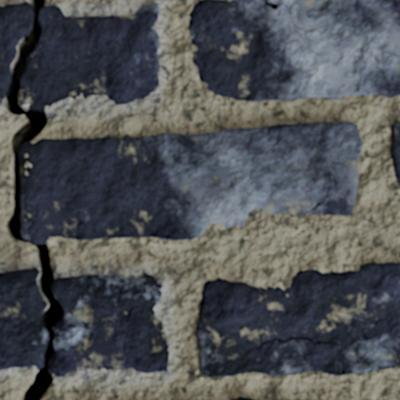brick: (22, 122, 361, 241), (197, 263, 399, 376), (189, 0, 399, 100), (391, 124, 399, 182), (236, 397, 251, 399)
broken_brick: (19, 2, 160, 109), (51, 273, 169, 377), (0, 267, 47, 370), (0, 1, 30, 105)
crack: (1, 0, 64, 399), (260, 0, 280, 10), (196, 0, 203, 6)
